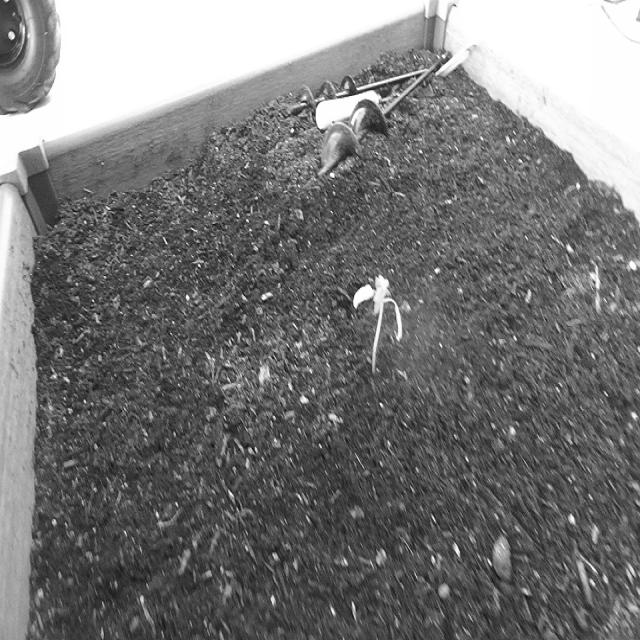Healthy: (348, 254, 410, 384)
